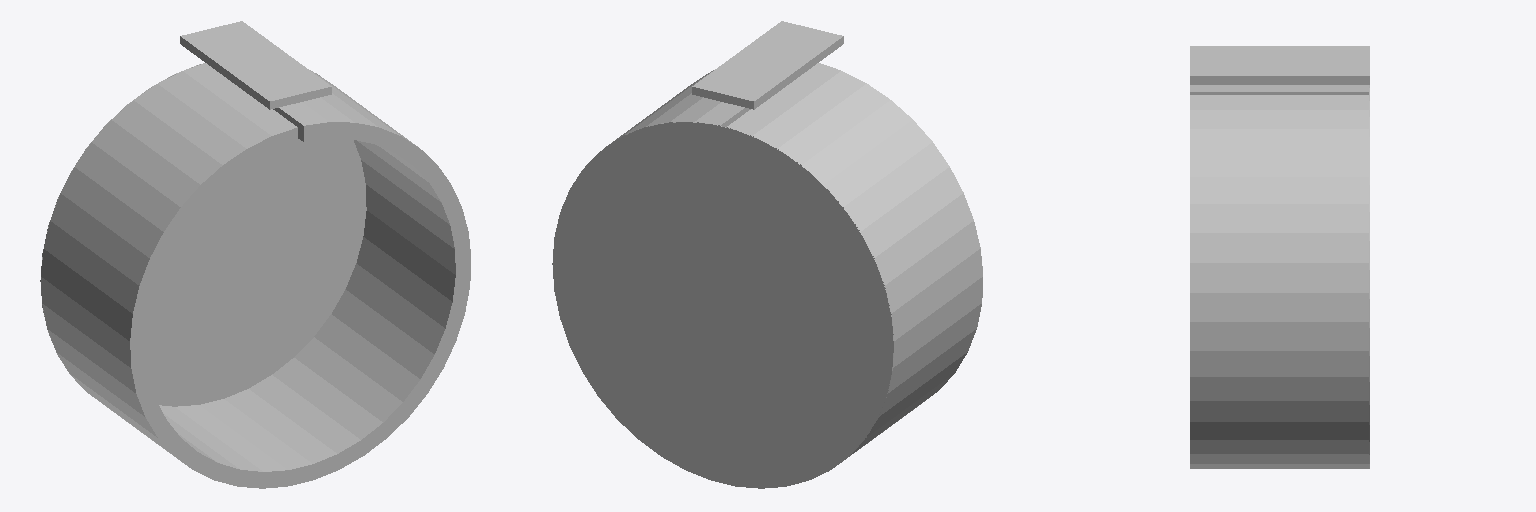
The model's file is MOLLER-TestGeo_textured.obj.
3 views of the same model, side by side, from view 1: azimuth 30°, elevation 25°; view 2: azimuth 150°, elevation 25°; view 3: azimuth 270°, elevation 25° (orthographic).
Visible parts, largest first — view 1: outerWall, Floor, crit-Shield; view 2: Floor, outerWall, crit-Shield; view 3: outerWall, crit-Shield.
Part boxes in pixels (left/top/right/bottom): outerWall: left=41, top=63, right=470, bottom=488; Floor: left=40, top=63, right=366, bottom=406; crit-Shield: left=180, top=21, right=331, bottom=109; Floor: left=552, top=122, right=893, bottom=488; outerWall: left=562, top=63, right=982, bottom=467; crit-Shield: left=692, top=21, right=843, bottom=109; outerWall: left=1190, top=85, right=1368, bottom=468; crit-Shield: left=1190, top=46, right=1369, bottom=84.
Size of the model in its own units: 1100 by 1198 by 500.